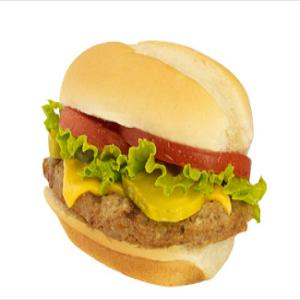cheeseburger_475cal: (29, 32, 271, 293)
